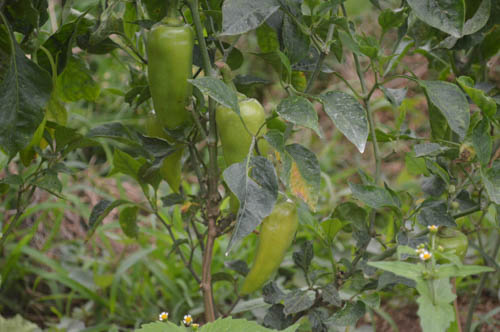ChiliPepper: (216, 97, 268, 221), (242, 202, 298, 295), (147, 25, 190, 128)
